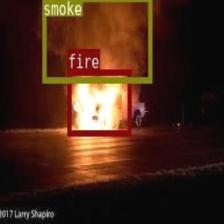fire: (66, 68, 131, 134)
smoke: (41, 0, 151, 82)
